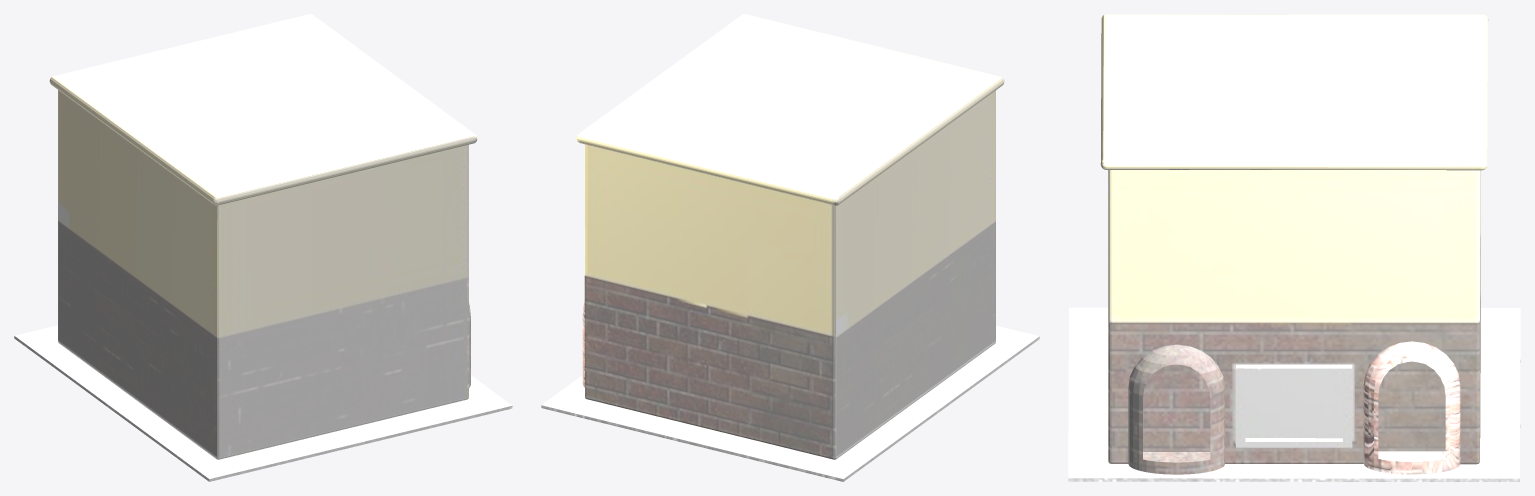
The model's file is stonewallTemporal.gltf.
3 views of the same model, side by side, from view 1: azimuth 30°, elevation 25°; view 2: azimuth 150°, elevation 25°; view 3: azimuth 270°, elevation 25° (orthographic). The views are drawn at different scales.
Parts seen in each view (by area): view 1: Cube; view 2: Cube; view 3: Cube.
Part boxes in pixels (x1,y1,x2,y2): Cube: (14, 14, 512, 481); Cube: (541, 14, 1039, 481); Cube: (1068, 14, 1520, 481).
Size of the model in its own units: 241 by 203 by 269.
